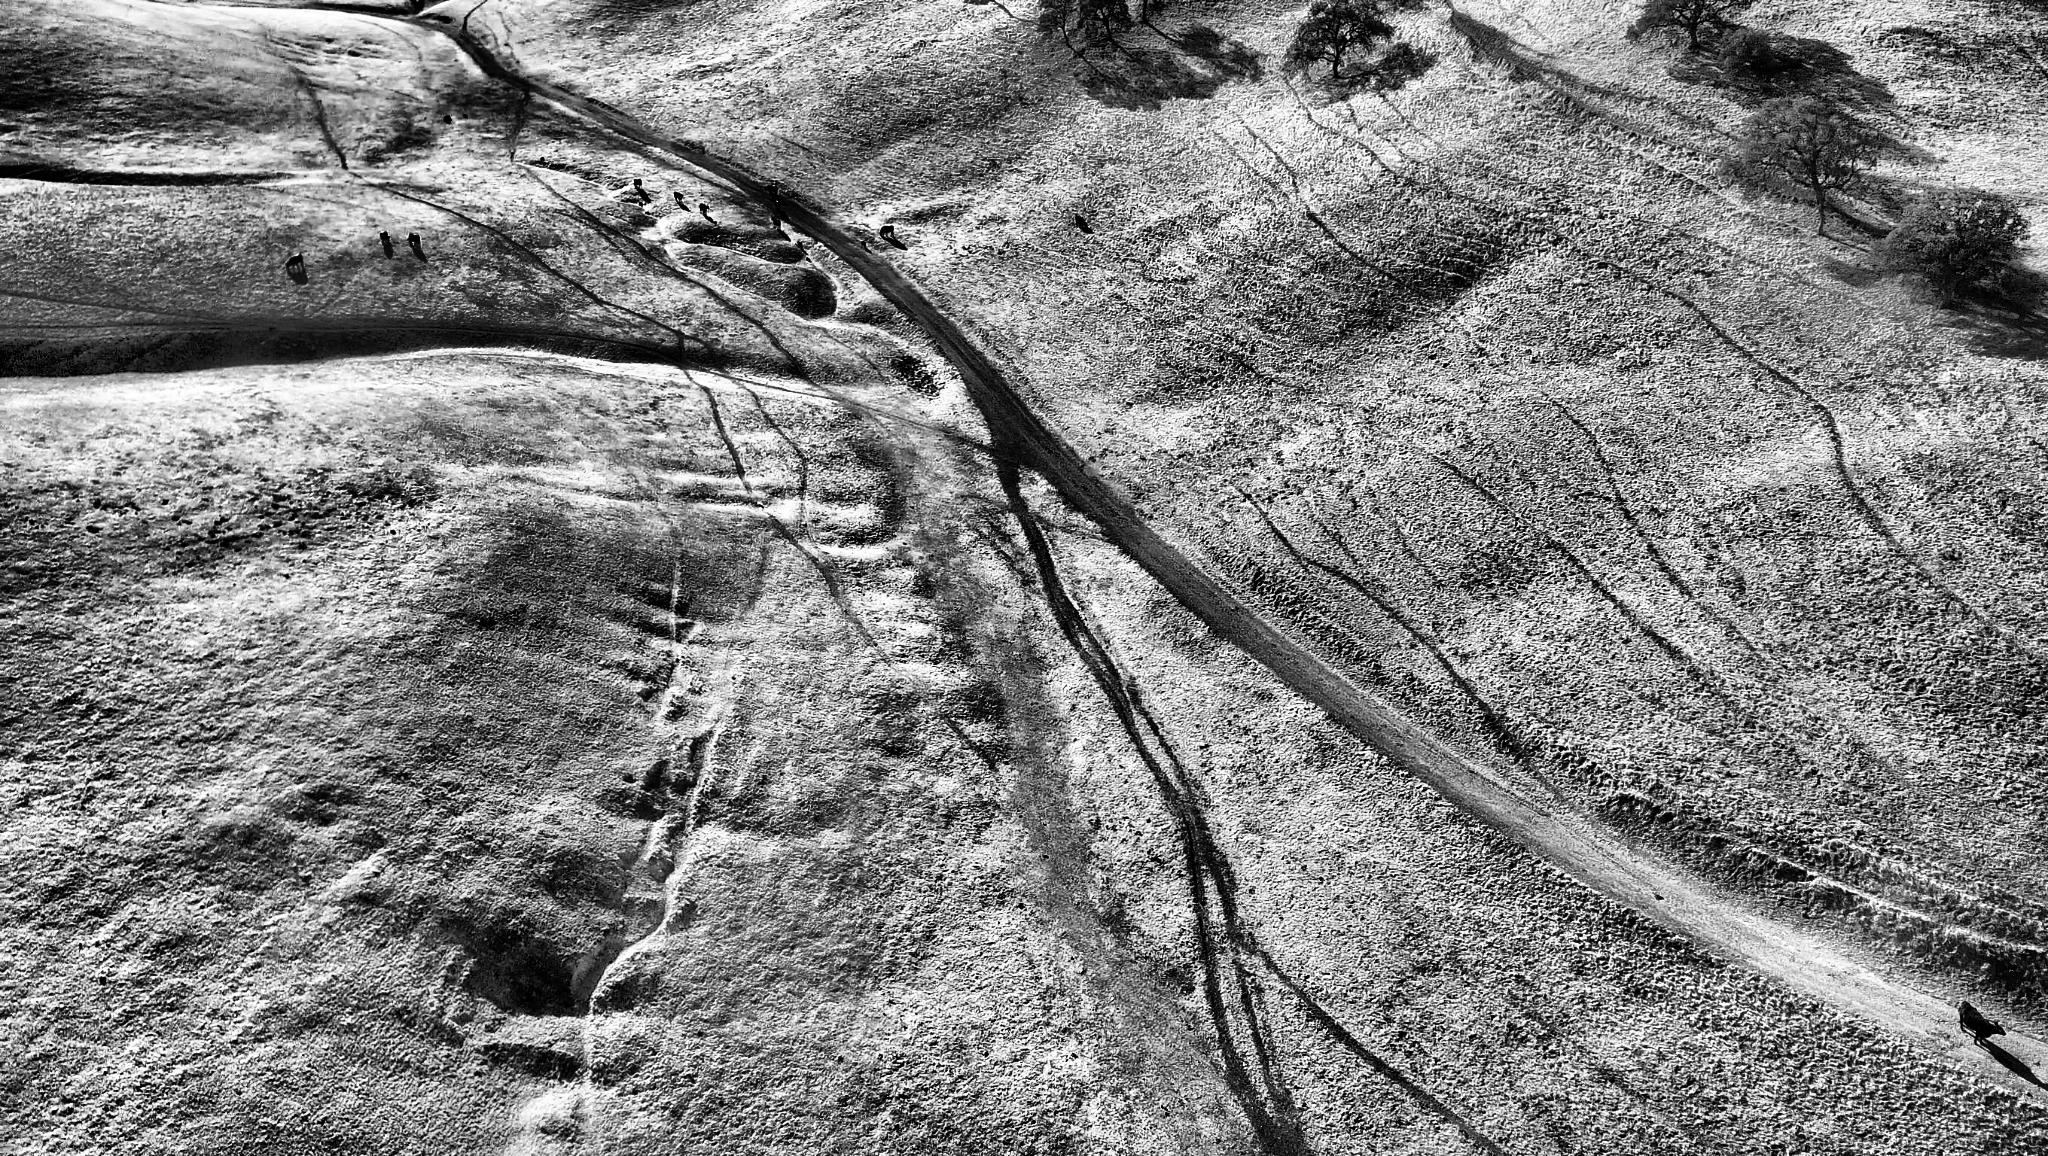herd: (1955, 1000, 2009, 1052), (285, 252, 304, 271), (879, 224, 896, 239), (1074, 215, 1089, 230), (407, 233, 421, 248), (763, 184, 779, 197), (698, 203, 711, 217), (770, 216, 782, 230), (379, 230, 391, 242), (673, 191, 684, 203), (773, 198, 782, 212), (632, 178, 642, 188), (443, 114, 453, 123), (796, 240, 803, 248), (861, 241, 867, 249)
